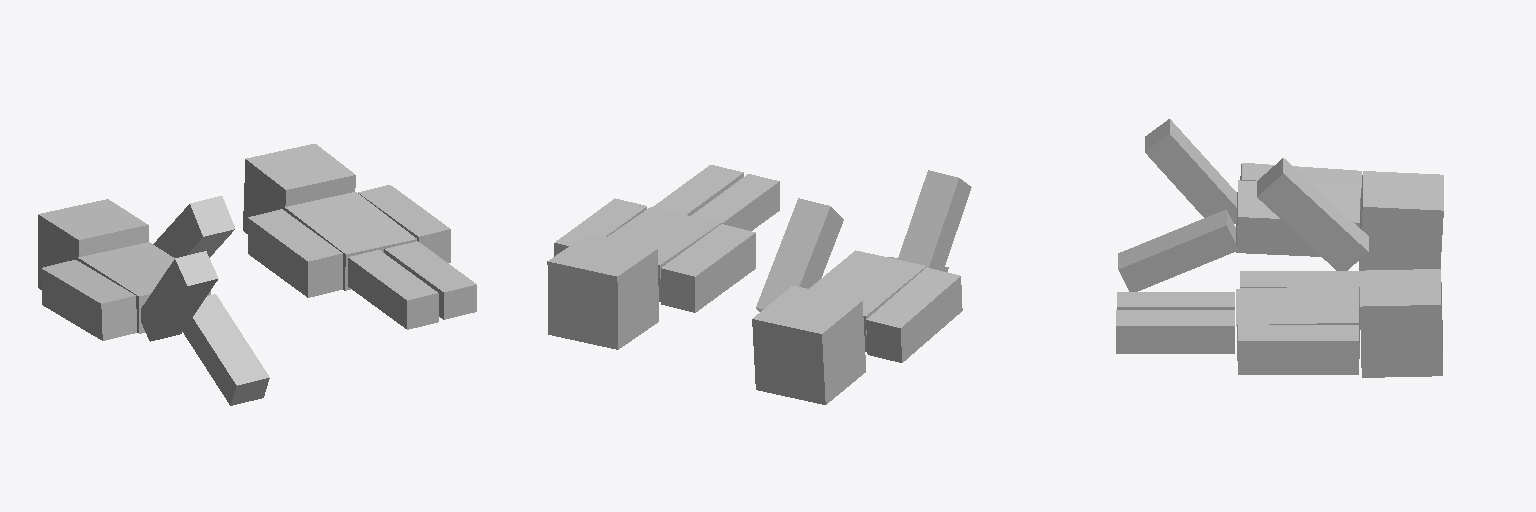
Rendered from steve_000014.obj.
The picture shows the model from 3 angles: view 1: azimuth 30°, elevation 25°; view 2: azimuth 150°, elevation 25°; view 3: azimuth 270°, elevation 25°; orthographic projection.
Parts seen in each view (by area): view 1: Cube.001_Cube.002, Cube_Cube.001; view 2: Cube_Cube.001, Cube.001_Cube.002; view 3: Cube_Cube.001, Cube.001_Cube.002.
Boxes of the visible parts, box(x1,y1,x2,y2) form: Cube.001_Cube.002: box(243, 144, 476, 329); Cube_Cube.001: box(38, 196, 269, 405); Cube_Cube.001: box(752, 170, 971, 404); Cube.001_Cube.002: box(547, 165, 779, 349); Cube_Cube.001: box(1118, 119, 1443, 291); Cube.001_Cube.002: box(1116, 269, 1442, 377).
Size of the model in its own units: 6.55 by 2.56 by 5.35.